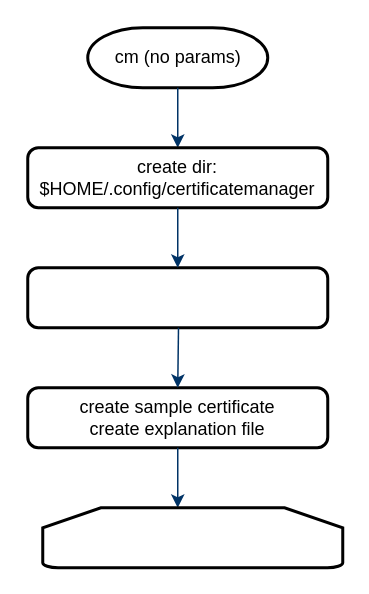
The diagram is 369 pixels wide and 594 high, and some of its shapes have lost their labels. The shapes that lost their labels are listed below. From the top down, each one's centre as x and y in pixels, then its label:
(x=177, y=297): create sample environmentfile create explanation file
(x=192, y=537): start command loop ( cmd.Execute() )
